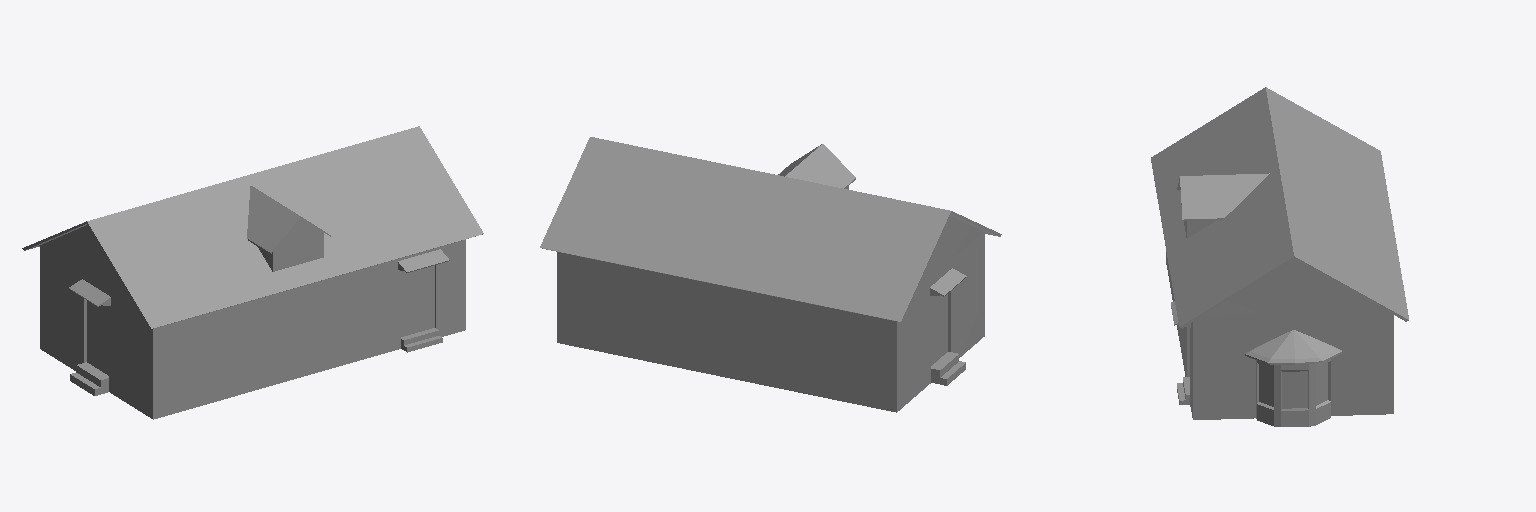
The model's file is casaAbandonada.obj.
The picture shows the model from 3 angles: view 1: azimuth 30°, elevation 25°; view 2: azimuth 150°, elevation 25°; view 3: azimuth 270°, elevation 25°; orthographic projection.
Visible parts, largest first — view 1: cottage_obj; view 2: cottage_obj; view 3: cottage_obj.
Part boxes in pixels (x1,y1,x2,y2): cottage_obj: (22,126,483,419); cottage_obj: (540,137,1001,412); cottage_obj: (1151,87,1408,426).
Bounding box in the file's own units: 33.93 × 14.67 × 20.74.